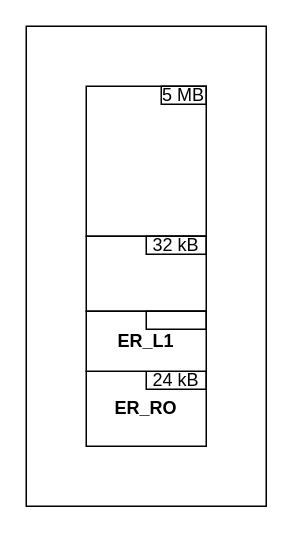
The diagram is 293 pixels wide and 533 high, and some of its shapes have lost their labels. The box of each missing label's shape, as (x1, y1, x2, y2) in pixels:
0.5 kB: (145, 310, 206, 329)
ER_DM: (85, 85, 206, 236)
STACK_HEAP: (85, 235, 206, 311)
